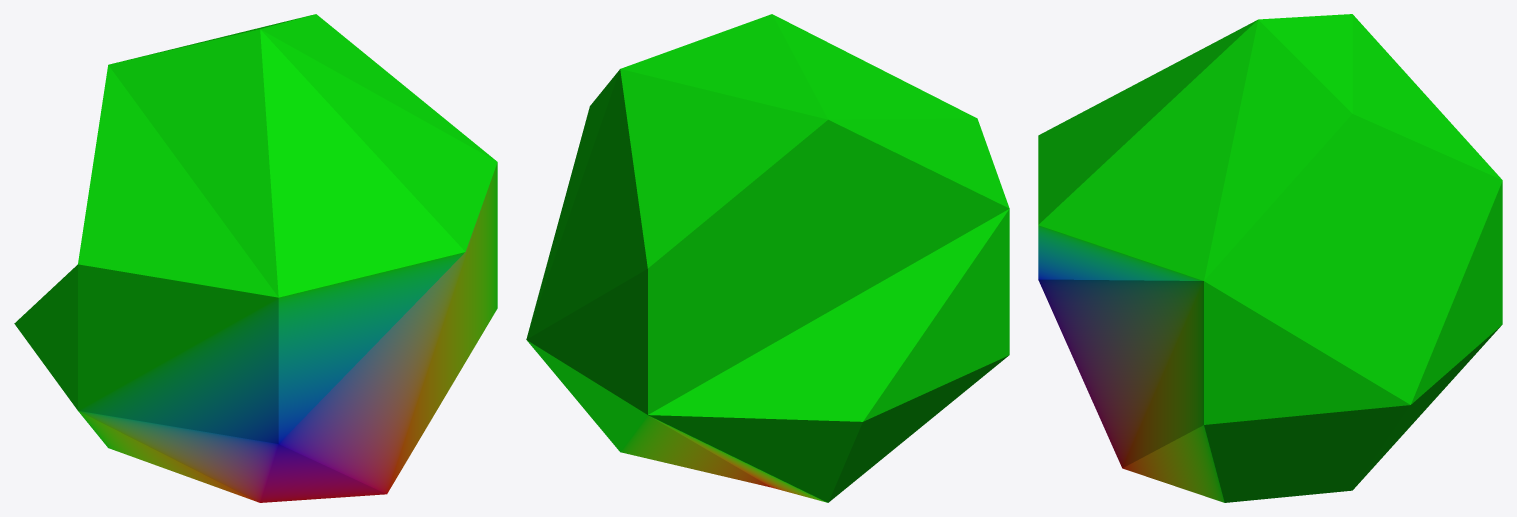
Rendered from all_9.obj.
3 views of the same model, side by side, from view 1: azimuth 30°, elevation 25°; view 2: azimuth 150°, elevation 25°; view 3: azimuth 270°, elevation 25° (orthographic).
Size of the model in its own units: 1.85 by 2 by 1.81.
